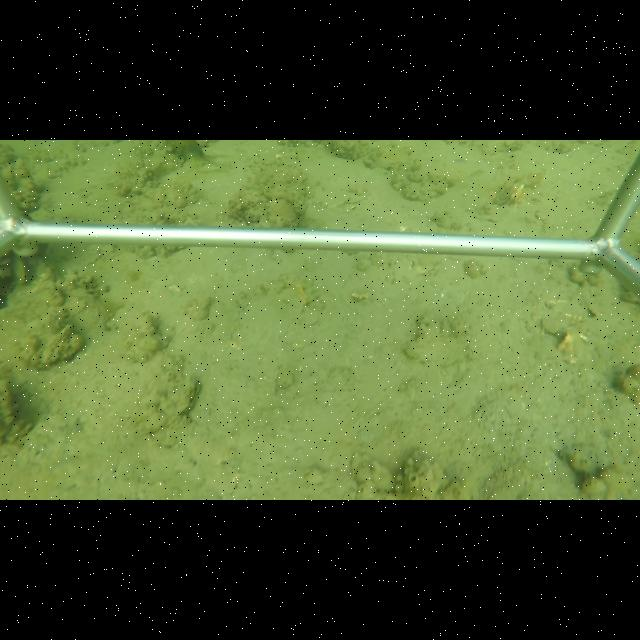Oyster-Closed: (142, 378, 205, 433), (399, 319, 472, 366), (25, 331, 87, 371)
